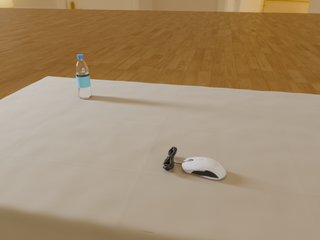bottle: (76, 54, 91, 99)
mouse: (182, 157, 226, 180)
